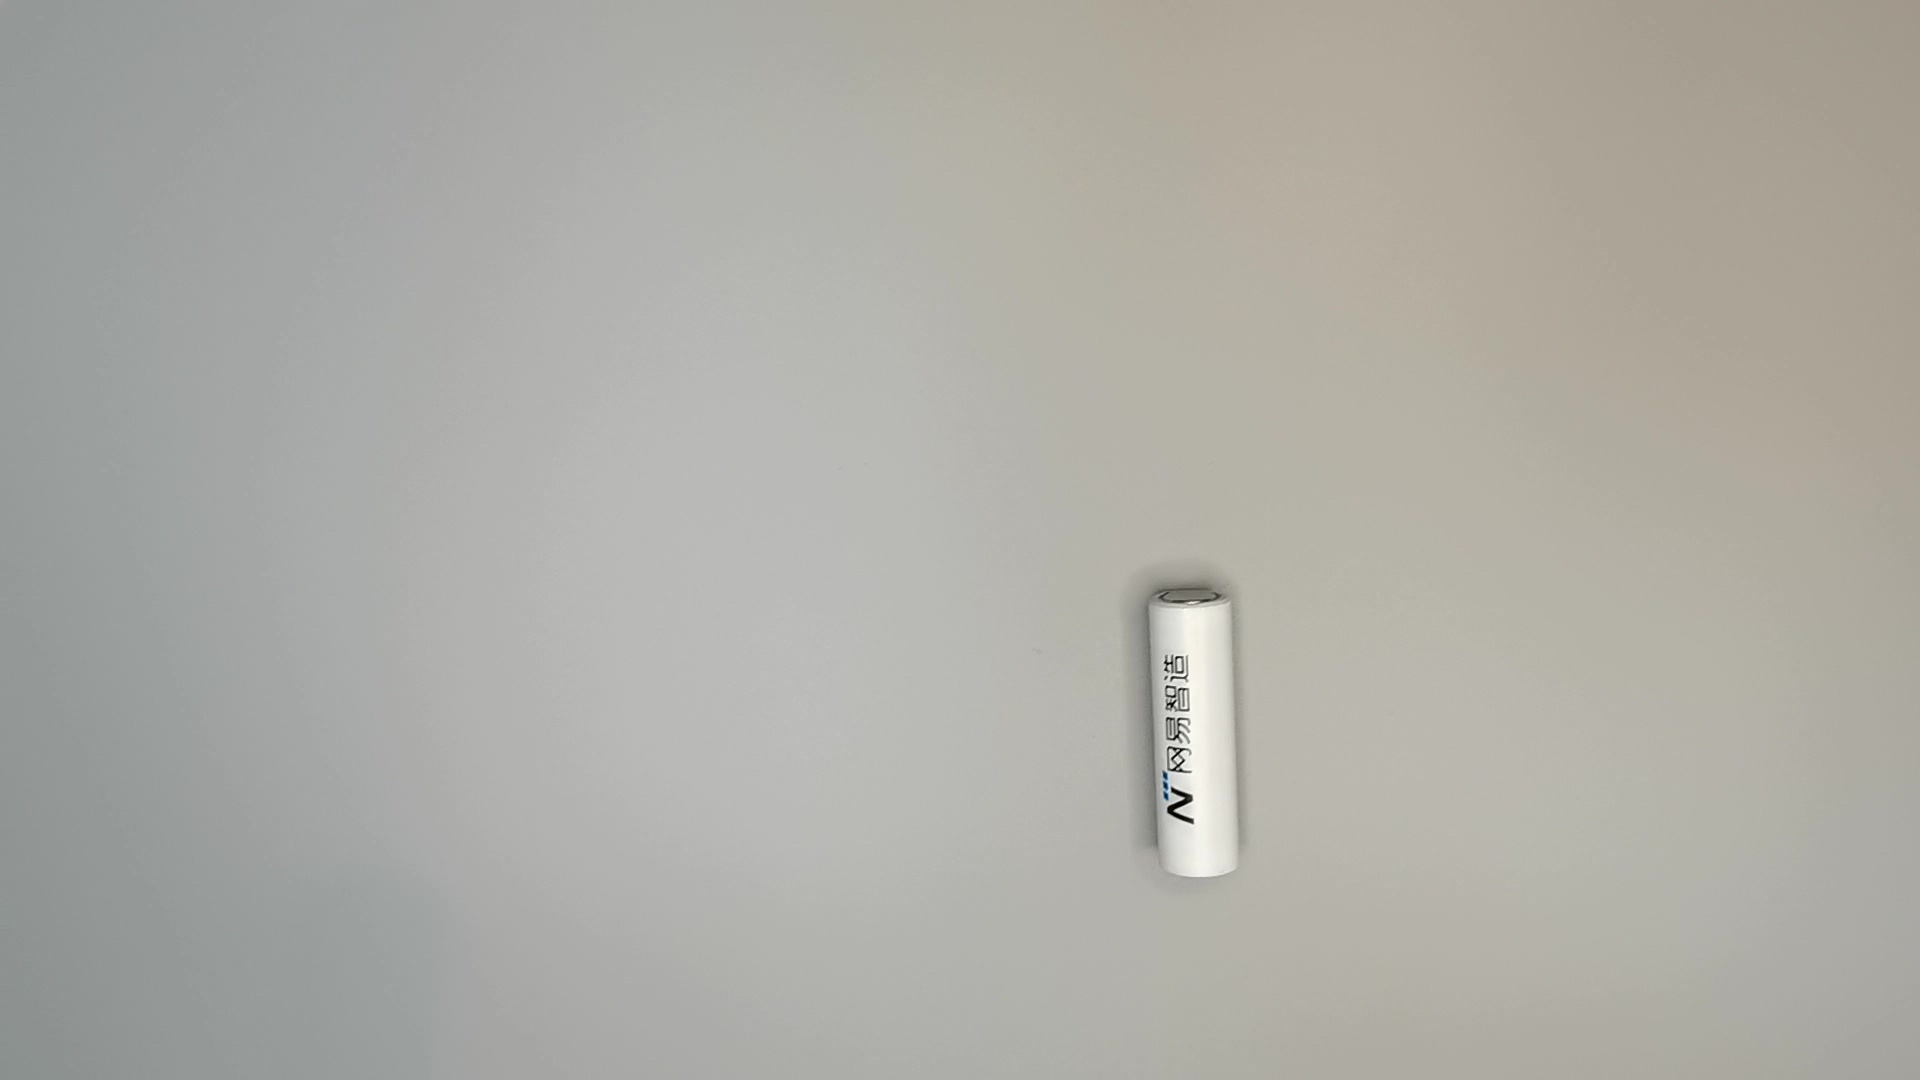battery: (1141, 579, 1255, 886)
